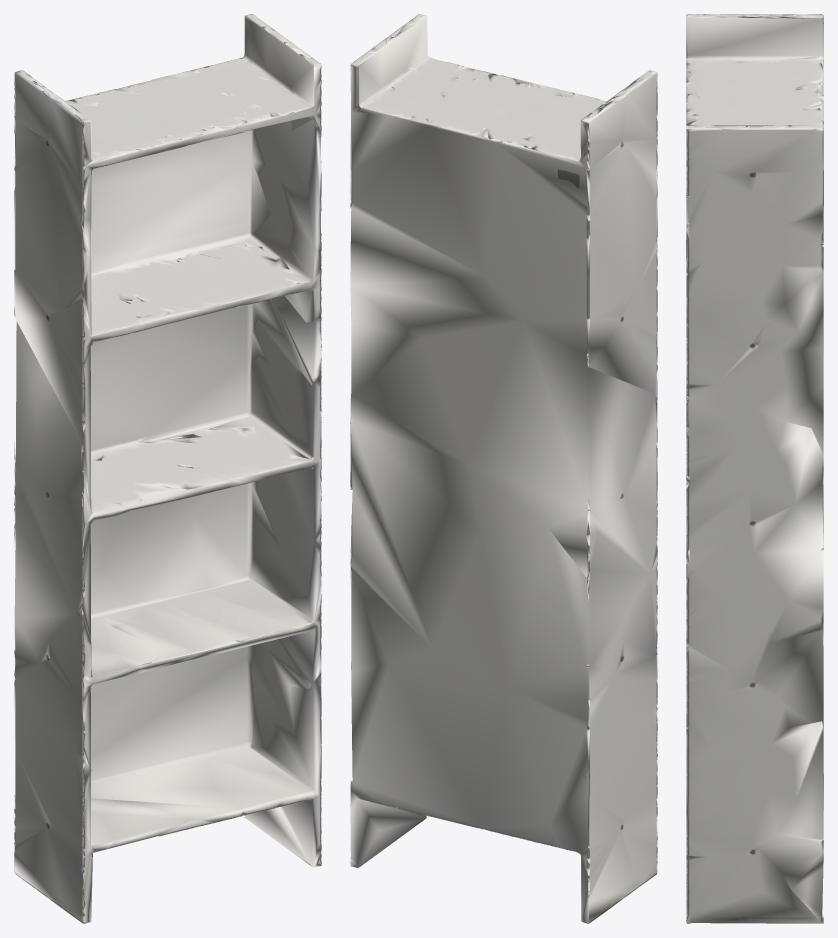
Rendered from meshy-ikea-20436713.glb.
3 renders of one model, left to right at view 1: azimuth 30°, elevation 25°; view 2: azimuth 150°, elevation 25°; view 3: azimuth 270°, elevation 25°, orthographic.
Parts seen in each view (by area): view 1: Exact catalog scale: ikea-20436713; view 2: Exact catalog scale: ikea-20436713; view 3: Exact catalog scale: ikea-20436713.
Boxes of the visible parts, <box> form: Exact catalog scale: ikea-20436713: <box>14,14,321,923</box>; Exact catalog scale: ikea-20436713: <box>350,14,657,923</box>; Exact catalog scale: ikea-20436713: <box>686,14,823,923</box>.
Size of the model in its own units: 0.498 by 1.6 by 0.251.
Materials: 1 (1 with a texture image).
